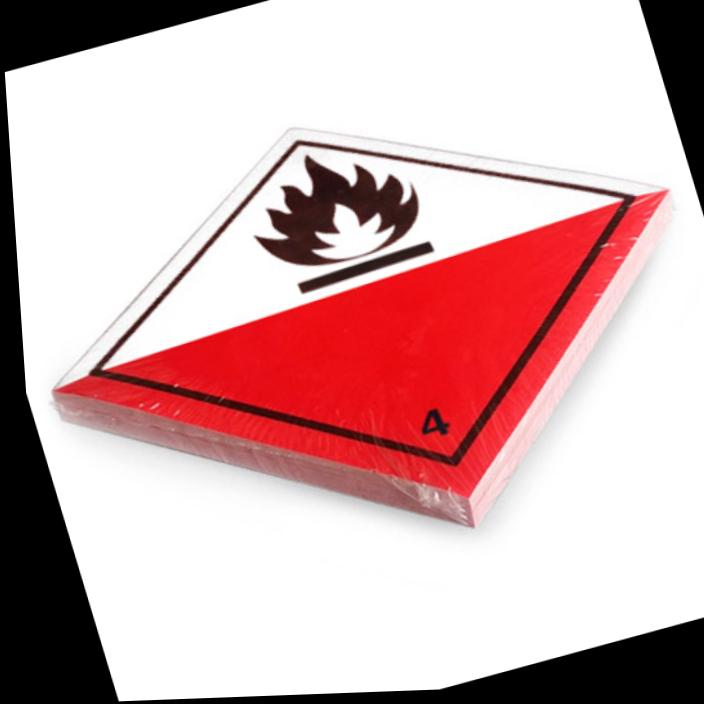charging station: (54, 132, 668, 524)
